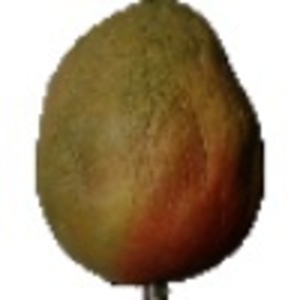mamão: (26, 2, 269, 289)
